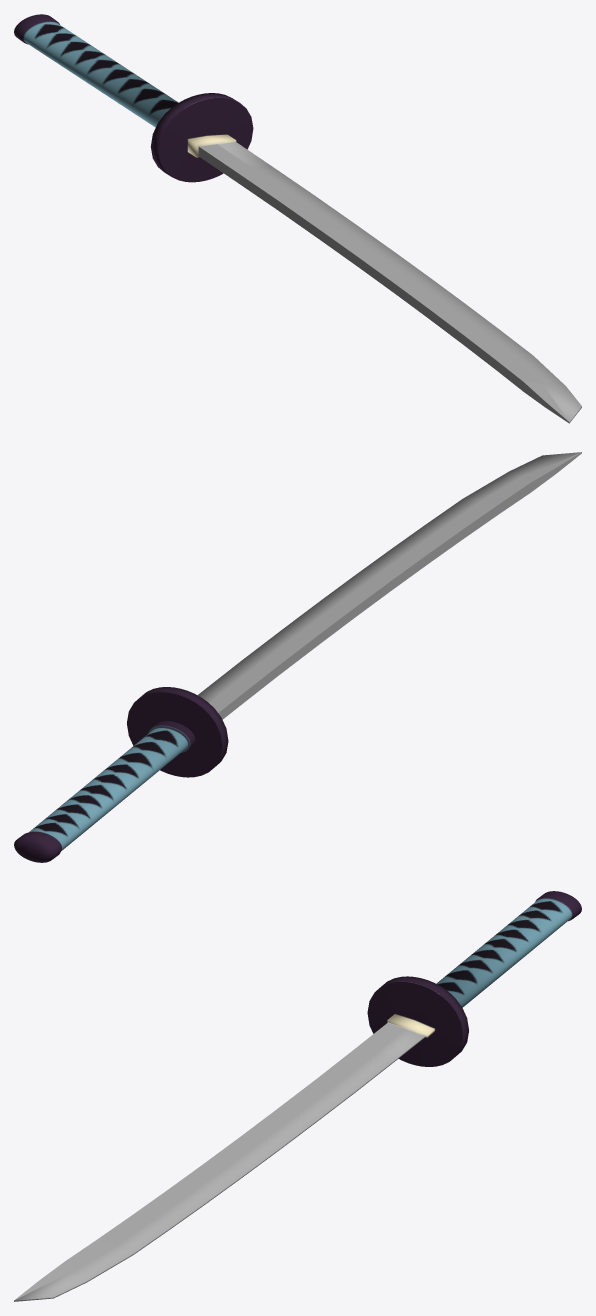
File: katana.fbx
3 renders of one model, top to bottom at view 1: azimuth 30°, elevation 25°; view 2: azimuth 150°, elevation 25°; view 3: azimuth 330°, elevation 25°, orthographic.
Visible parts, largest first — view 1: katana; view 2: katana; view 3: katana.
Boxes of the visible parts, box(x1,y1,x2,y2) form: katana: box(14, 14, 581, 423); katana: box(14, 452, 581, 862); katana: box(14, 891, 581, 1301).
Size of the model in its own units: 12.4 by 10.04 by 122.
